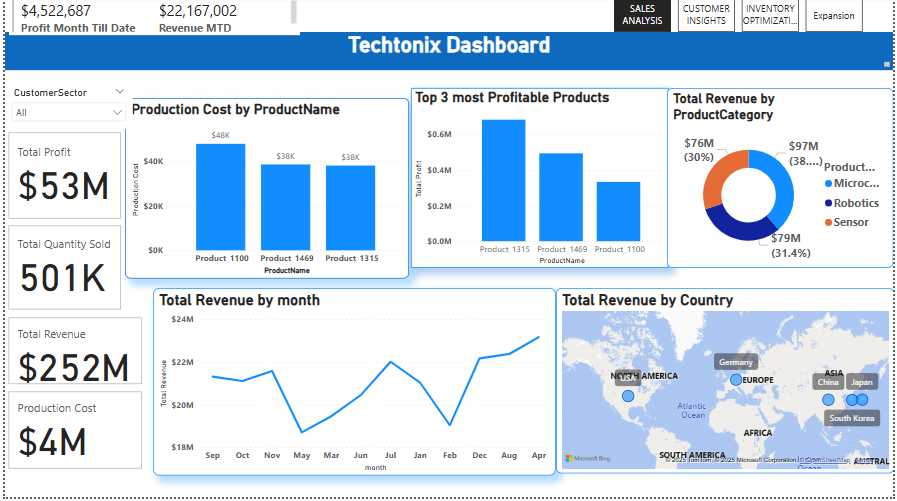

The dashboard page shown, as its layout file describes it:
{"tool":"powerbi","page":{"name":"SALES ANALYSIS","canvas":[1280,720],"ordinal":0},"visuals":[{"type":"cardVisual","fields":{"Data":["Measures (2).Total Profit"]},"box":[0,189.7,172.4,134.5],"z":0},{"type":"cardVisual","fields":{"Data":["Measures (2).Total Quantity Sold"]},"box":[0,324.1,172.4,131],"z":1000},{"type":"cardVisual","fields":{"Data":["Measures (2).Total Revenue"]},"box":[0,456.6,202.4,106.9],"z":2000},{"type":"cardVisual","fields":{"Data":["Measures (2).Production Cost"]},"box":[0,563.5,202.4,121.4],"z":3000},{"type":"clusteredColumnChart","fields":{"Y":["Measures (2).Production Cost"],"Category":["product dim.ProductName"]},"box":[172.4,144.8,408.6,260.3],"z":4000},{"type":"clusteredColumnChart","title":"Top 3 most Profitable Products","fields":{"Y":["Measures (2).Total Profit"],"Category":["product dim.ProductName"]},"box":[584.5,131,370.7,258.6],"z":5000},{"type":"donutChart","fields":{"Y":["Measures (2).Total Revenue"],"Category":["product dim.ProductCategory"]},"box":[953.4,131,325.9,258.6],"z":6000},{"type":"lineChart","fields":{"Category":["calender dim.month"],"Y":["Measures (2).Total Revenue"]},"box":[213.7,419.4,579.7,270.4],"z":7000},{"type":"map","fields":{"Category":["location dim.Country"],"Size":["Measures (2).Total Revenue"]},"box":[793.4,419.4,487.4,267.2],"z":8000},{"type":"slicer","fields":{"Values":["customer dim.CustomerSector"]},"box":[0,124.1,184.5,65.5],"z":9000},{"type":"textbox","title":"Techtonix Dashboard","box":[0,50,1279.3,55.2],"z":10000},{"type":"pageNavigator","box":[877.6,0,360.3,50],"z":11000},{"type":"multiRowCard","fields":{"Values":["Measures (2).Profit Month Till Date","Measures (2).Revenue MTD"]},"box":[5.2,0,419,55.2],"z":12000}]}

Visuals, with their boxes in screenshot pixels (x1, y1, x2, y2), scaled from the page's 1280x720 canvas onto the 897x501 screenshot:
cardVisual - Measures (2).Total Profit: 0, 132, 121, 226
cardVisual - Measures (2).Total Quantity Sold: 0, 226, 121, 317
cardVisual - Measures (2).Total Revenue: 0, 318, 142, 392
cardVisual - Measures (2).Production Cost: 0, 392, 142, 477
clusteredColumnChart - Measures (2).Production Cost x product dim.ProductName: 121, 101, 407, 282
"Top 3 most Profitable Products" clusteredColumnChart: 410, 91, 669, 271
donutChart - Measures (2).Total Revenue x product dim.ProductCategory: 668, 91, 896, 271
lineChart - calender dim.month x Measures (2).Total Revenue: 150, 292, 556, 480
map - location dim.Country x Measures (2).Total Revenue: 556, 292, 896, 478
slicer - customer dim.CustomerSector: 0, 86, 129, 132
"Techtonix Dashboard" textbox: 0, 35, 896, 73
pageNavigator: 615, 0, 867, 35
multiRowCard - Measures (2).Profit Month Till Date x Measures (2).Revenue MTD: 4, 0, 297, 38
